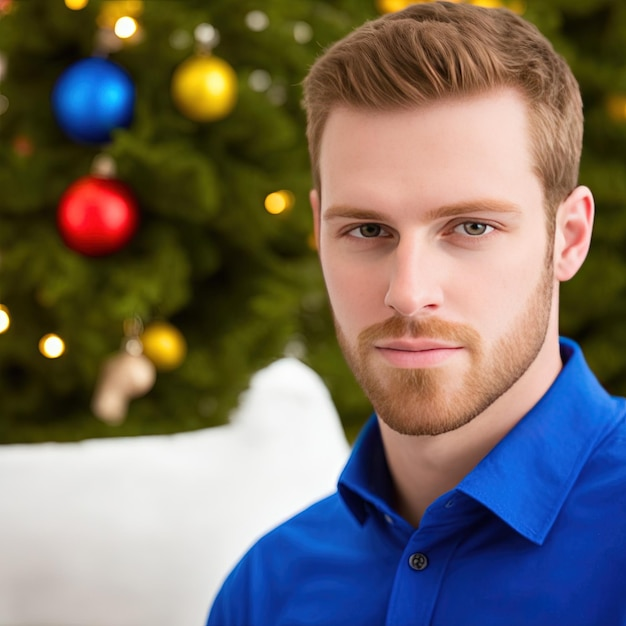young: (284, 17, 586, 405)
